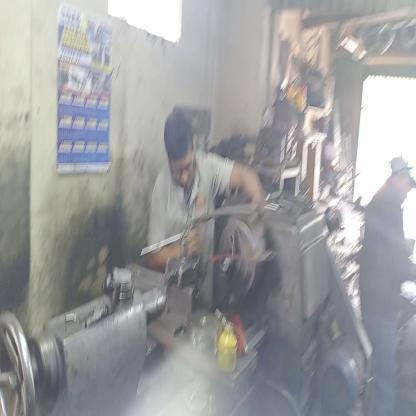lentes: (166, 153, 194, 180)
